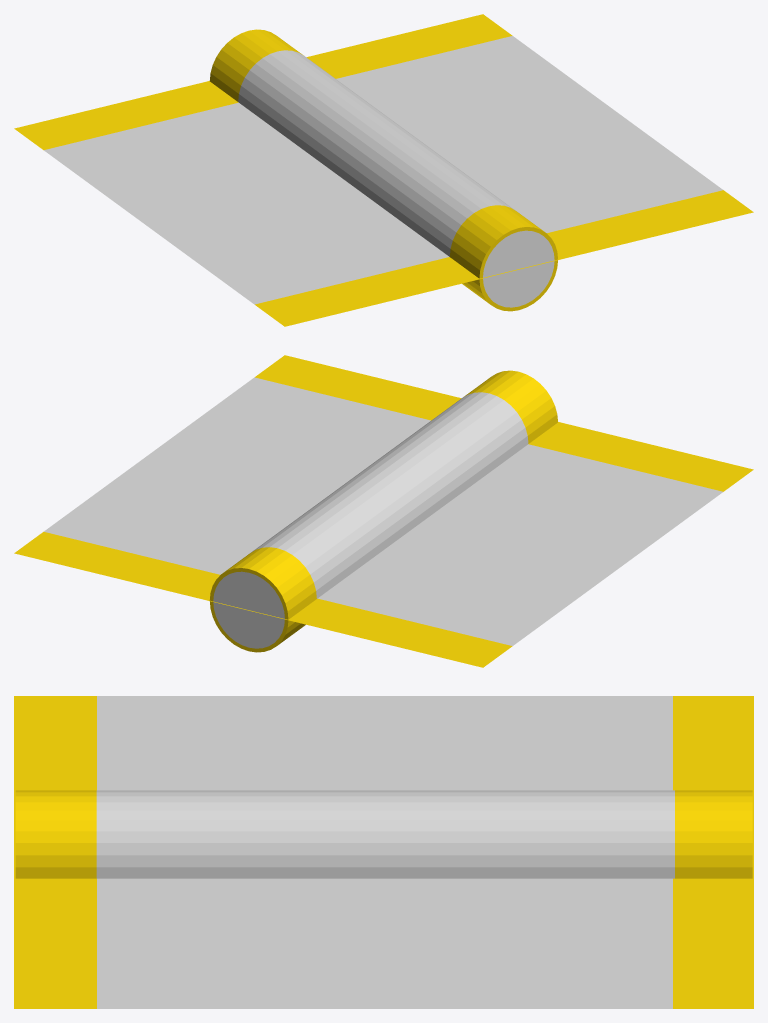
The model's file is convoyer2.glb.
3 views of the same model, one above another, from view 1: azimuth 30°, elevation 25°; view 2: azimuth 150°, elevation 25°; view 3: azimuth 270°, elevation 25° (orthographic). The views are drawn at different scales.
Visible parts, largest first — view 1: segment, roller; view 2: segment, roller; view 3: segment, roller.
Boxes of the visible parts, x1,y1,x2,y2 form: segment: (14,14,753,326); roller: (209,29,557,311); segment: (14,355,753,667); roller: (209,370,557,652); segment: (14,696,753,1008); roller: (15,790,752,878).
Size of the model in its own units: 1 by 0.1678 by 1.
